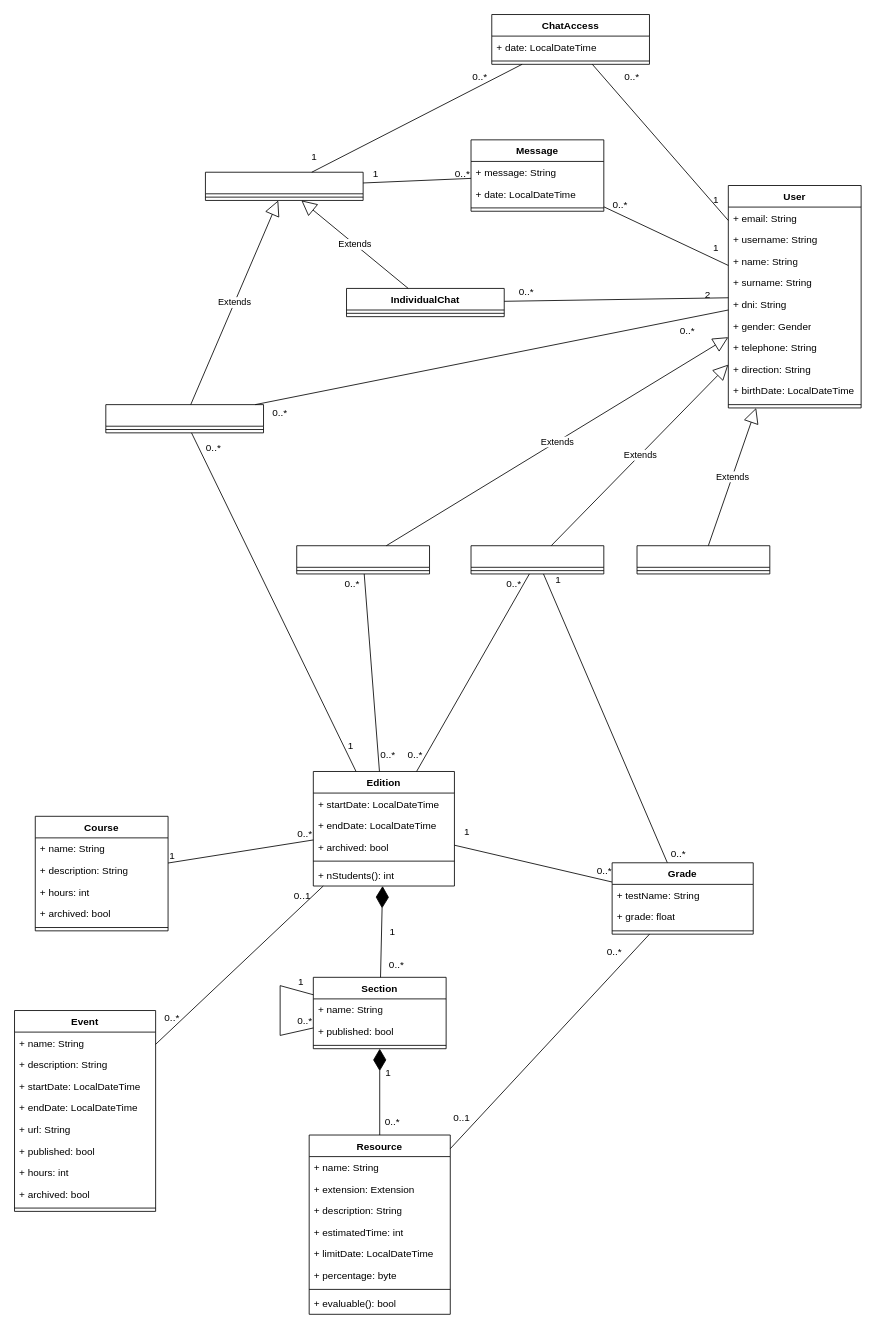
This 876x1331 diagram has some shape labels left out. The shapes that lost their labels are listed below. From the top down, each one's centre as x and y in pixels, then its label:
At (284,185): "Chat".
At (184,418): "GrupalChat".
At (363,559): "Teacher".
At (537,559): "Student".
At (703,559): "Admin".
